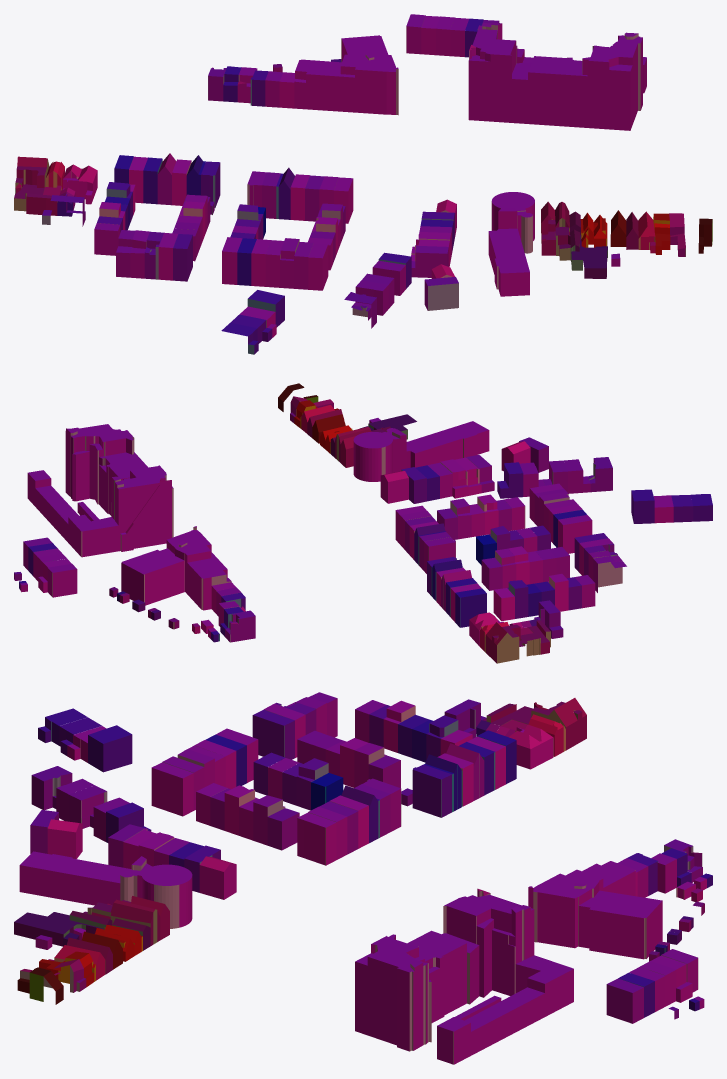
The model's file is buildings_12_12.glb.
The picture shows the model from 3 angles, top to bottom: view 1: azimuth 30°, elevation 25°; view 2: azimuth 150°, elevation 25°; view 3: azimuth 270°, elevation 25°; orthographic projection. The views are drawn at different scales.
Parts seen in each view (by area): view 1: buildings_12_12; view 2: buildings_12_12; view 3: buildings_12_12.
Part boxes in pixels (box(x1,y1,x2,y2)): buildings_12_12: box(14, 14, 712, 354); buildings_12_12: box(14, 383, 712, 663); buildings_12_12: box(14, 692, 712, 1064).
Bounding box in the file's own units: 242 × 27.79 × 207.
